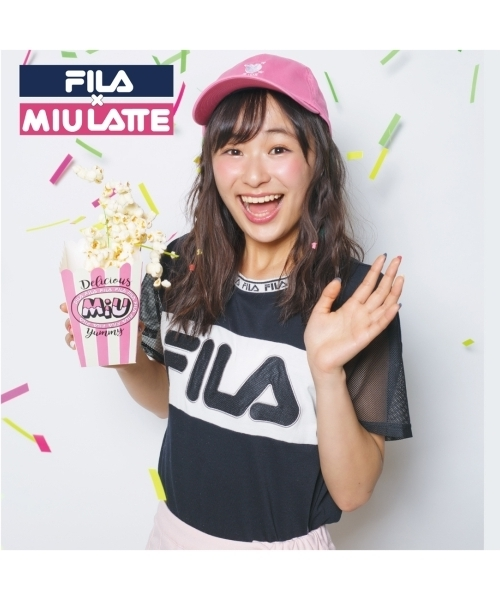face: (210, 94, 318, 243)
hand: (303, 250, 404, 370)
